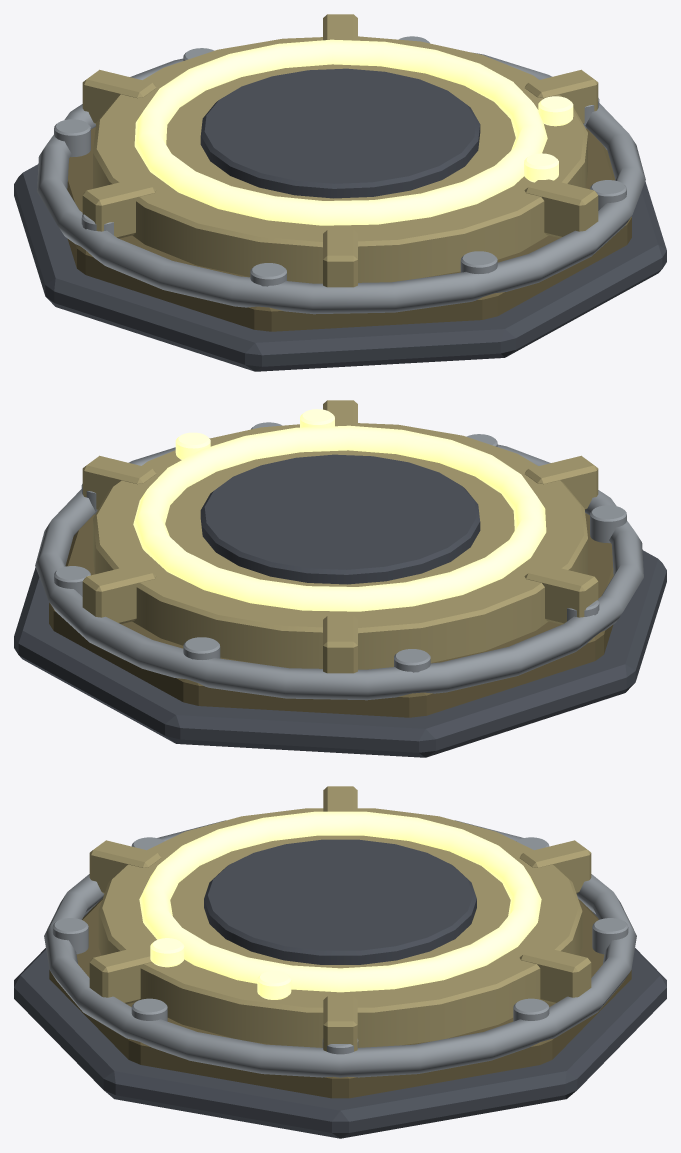
The model's file is flak_base_l2.glb.
3 views of the same model, one above another, from view 1: azimuth 30°, elevation 25°; view 2: azimuth 150°, elevation 25°; view 3: azimuth 270°, elevation 25° (orthographic). The views are drawn at different scales.
Visible parts, largest first — view 1: Cylinder.002, Cylinder, Cylinder.003, Torus.001, Torus, Cylinder.001, Cube.005, Cube.003, Cube.002, Cube.004, Cube, Cylinder.007 (+6 smaller); view 2: Cylinder.002, Cylinder, Cylinder.003, Torus.001, Torus, Cylinder.001, Cube.001, Cube.003, Cube.004, Cube.002, Cube, Cylinder.009 (+6 smaller); view 3: Cylinder.002, Cylinder, Cylinder.003, Torus, Torus.001, Cylinder.001, Cube.001, Cube.005, Cube.002, Cube.004, Cube, Cylinder.006 (+6 smaller).
Part boxes in pixels (x1,y1,x2,y2): Cylinder.002: [93, 36, 587, 283]; Cylinder: [14, 164, 666, 371]; Cylinder.003: [200, 68, 480, 198]; Torus.001: [134, 39, 547, 225]; Torus: [37, 52, 645, 314]; Cylinder.001: [67, 127, 631, 331]; Cube.005: [524, 179, 598, 237]; Cube.003: [82, 177, 156, 238]; Cube.002: [82, 69, 156, 123]; Cube.004: [323, 229, 357, 287]; Cube: [524, 69, 598, 123]; Cylinder.007: [54, 119, 90, 157]; Cylinder.002: [93, 423, 587, 669]; Cylinder: [14, 550, 666, 757]; Cylinder.003: [200, 454, 480, 584]; Torus.001: [133, 425, 546, 611]; Torus: [35, 444, 643, 700]; Cylinder.001: [49, 513, 613, 717]; Cube.001: [82, 563, 156, 623]; Cube.003: [524, 563, 598, 624]; Cube.004: [524, 455, 598, 509]; Cube.002: [323, 615, 357, 673]; Cube: [82, 455, 156, 509]; Cylinder.009: [590, 505, 626, 543]; Cylinder.002: [98, 808, 582, 1047]; Cylinder: [14, 910, 666, 1138]; Cylinder.003: [204, 839, 476, 964]; Torus: [44, 820, 636, 1077]; Torus.001: [139, 811, 541, 992]; Cylinder.001: [49, 898, 631, 1098]; Cube.001: [519, 945, 591, 1004]; Cube.005: [89, 945, 151, 1004]; Cube.002: [519, 840, 591, 893]; Cube.004: [89, 840, 161, 893]; Cube: [323, 996, 357, 1051]; Cylinder.006: [592, 918, 628, 954].
Bounding box in the file's own units: 2.11 × 0.4 × 2.11.
